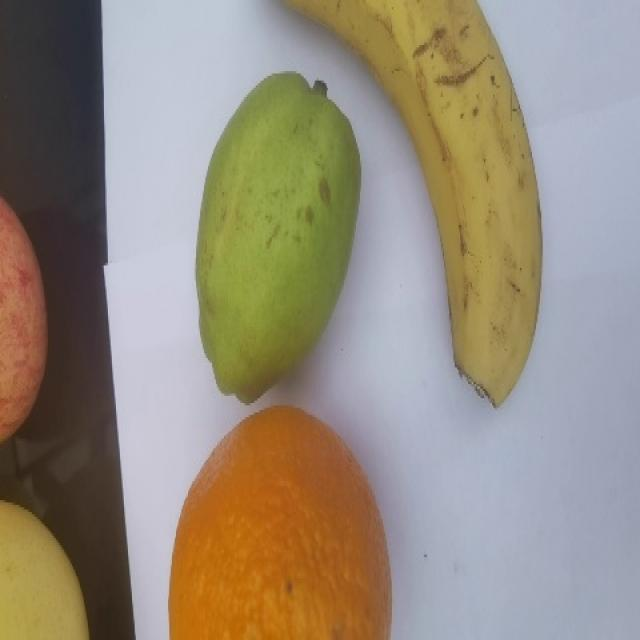Apple: (0, 194, 48, 444)
Banana: (278, 0, 543, 408)
Orange: (167, 404, 392, 639)
